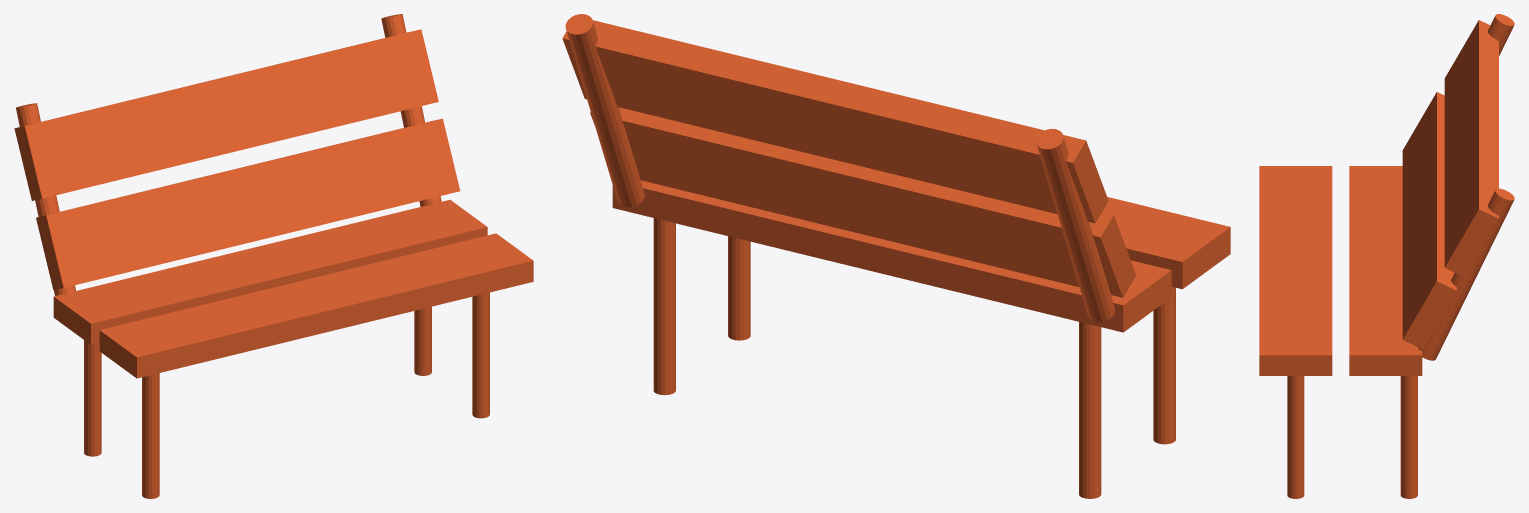
The model's file is bench.fbx.
The picture shows the model from 3 angles, left to right: view 1: azimuth 30°, elevation 25°; view 2: azimuth 150°, elevation 25°; view 3: azimuth 270°, elevation 25°; orthographic projection. The views are drawn at different scales.
Parts seen in each view (by area): view 1: Cylinder.017; view 2: Cylinder.017; view 3: Cylinder.017.
Part boxes in pixels (box(x1,y1,x2,y2)): Cylinder.017: box(14, 14, 533, 498); Cylinder.017: box(562, 14, 1230, 498); Cylinder.017: box(1259, 14, 1514, 498).
Bounding box in the file's own units: 940 × 725 × 536.
